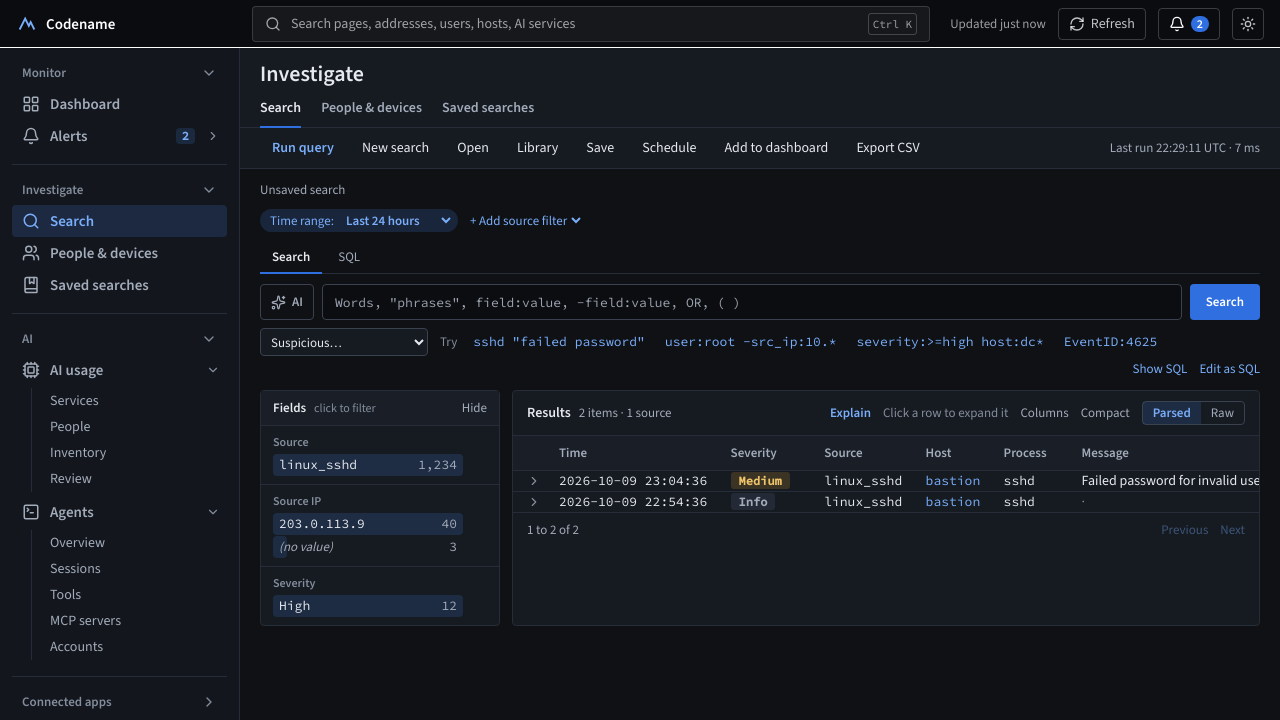
Test: Simple search › is the first tab and sends its values as bound parameters
Expected: the heading "Investigate" is shown, x1=260 y1=59 x2=364 y2=88
Expected: the button with aria-label "Ask in plain English" is shown, x1=260 y1=284 x2=314 y2=320
In the search field named "Search text": (752, 302) x1=322 y1=284 x2=1182 y2=320, type "oracle"
Then press Enter
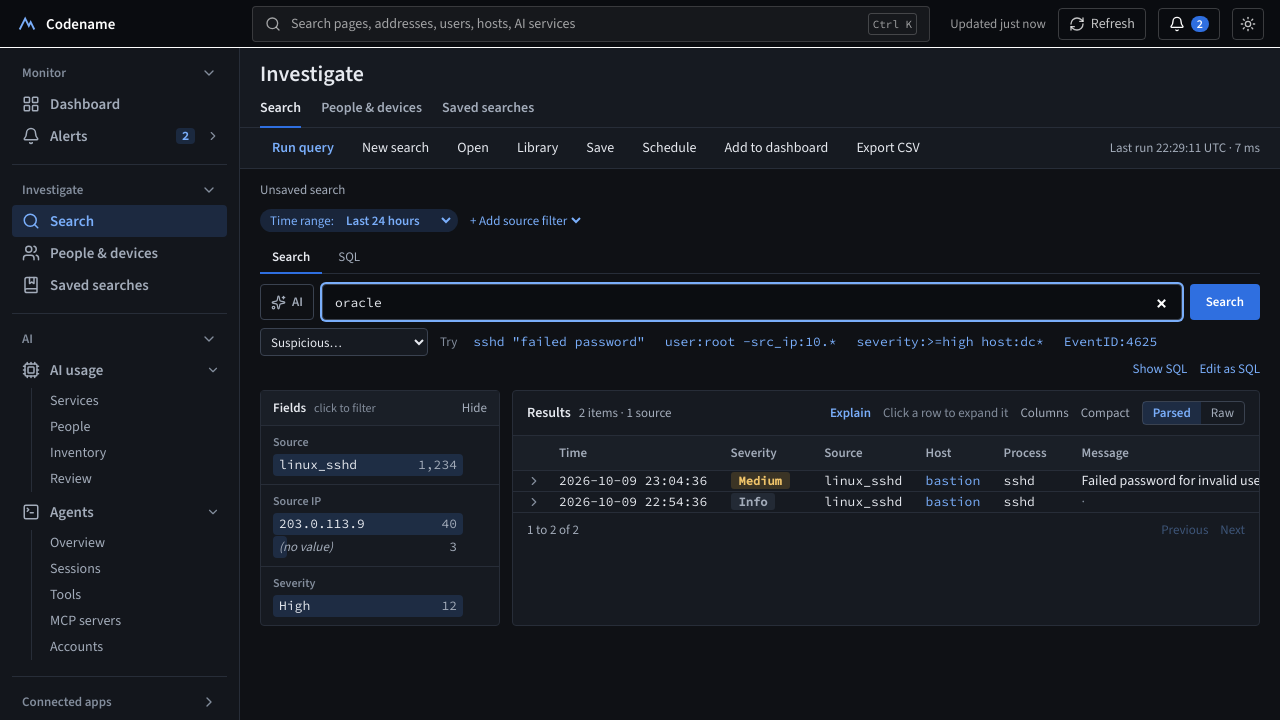
Click the button "Show SQL": (1160, 369) x1=1132 y1=360 x2=1187 y2=378
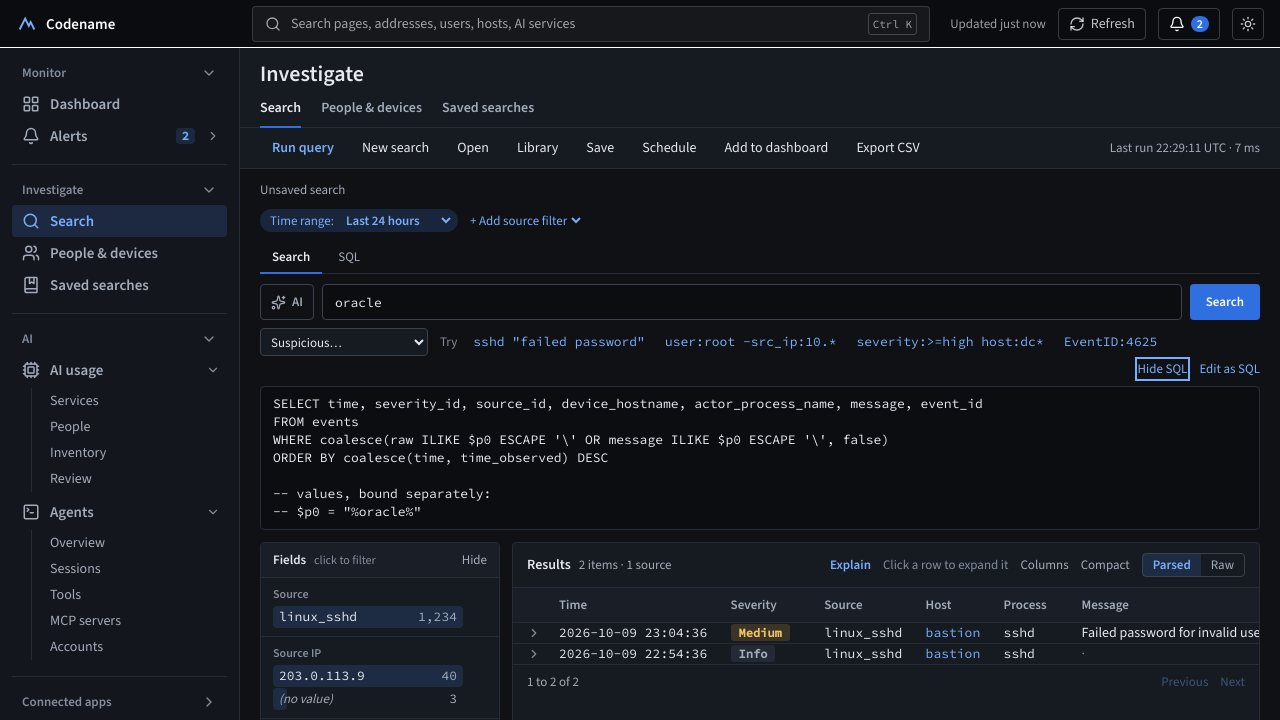
Expected: the text named "SQL for this search" shows "$p0 = \"%oracle%\"", x1=273 y1=485 x2=491 y2=520
